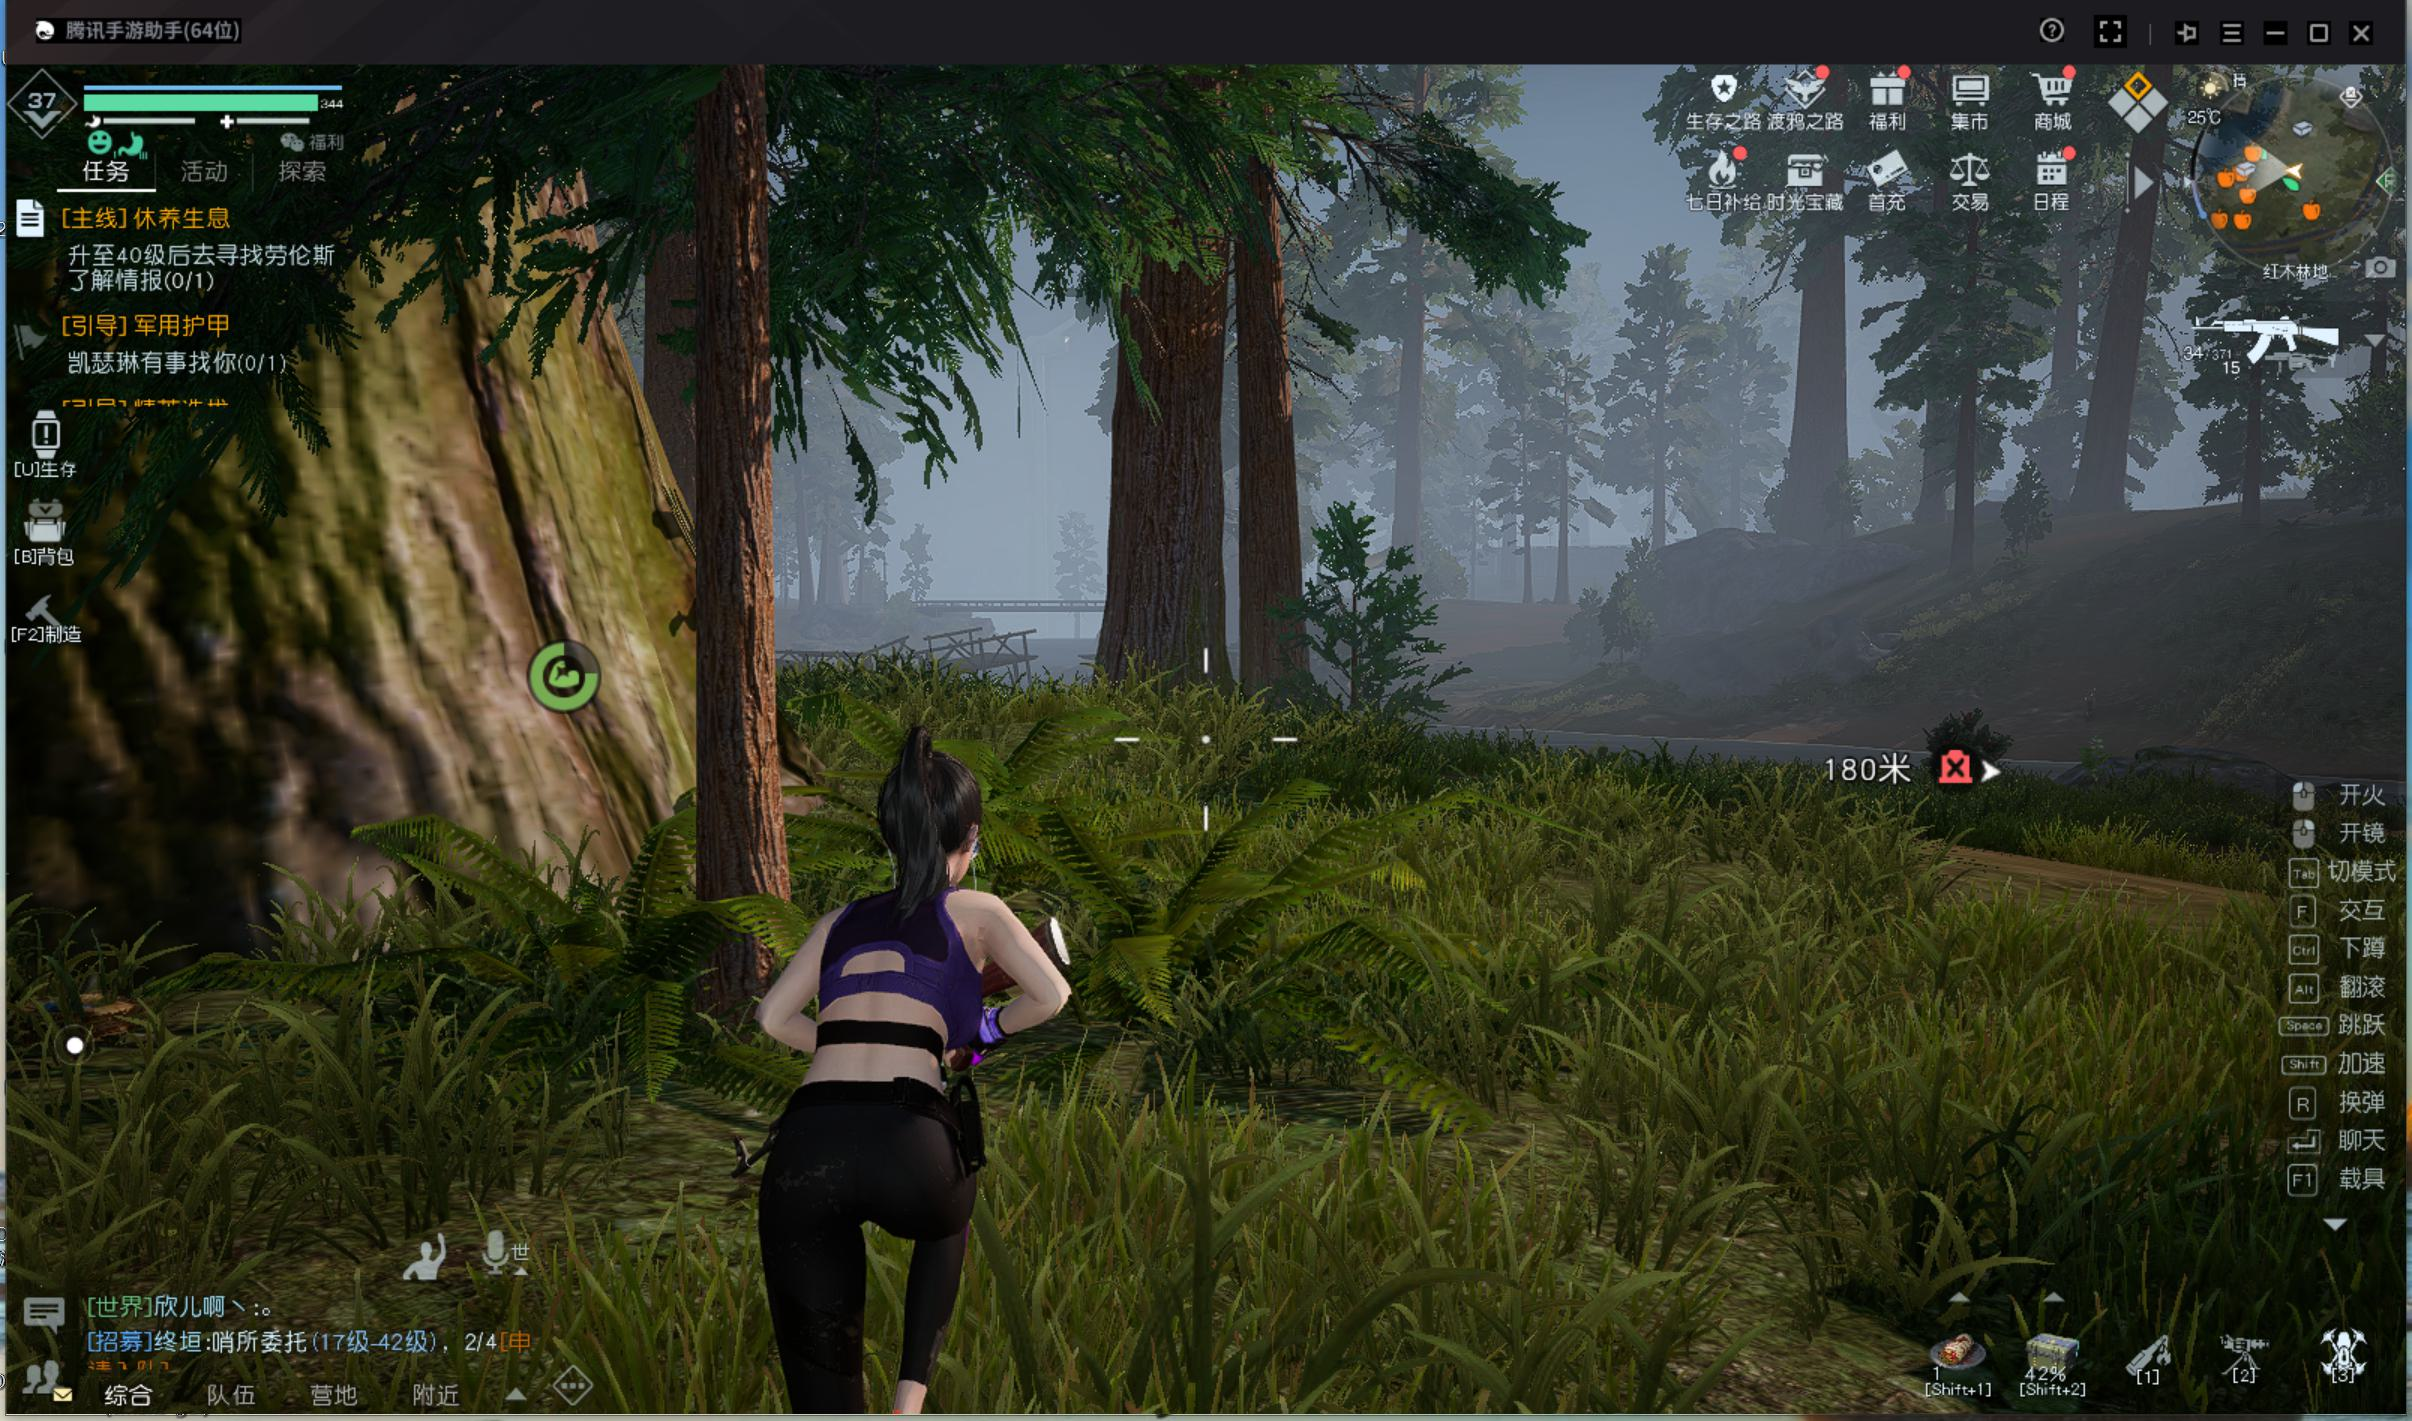tree: (675, 316, 807, 957), (1105, 306, 1231, 709), (1231, 337, 1335, 804), (1778, 242, 1861, 557), (1790, 245, 1874, 541)
